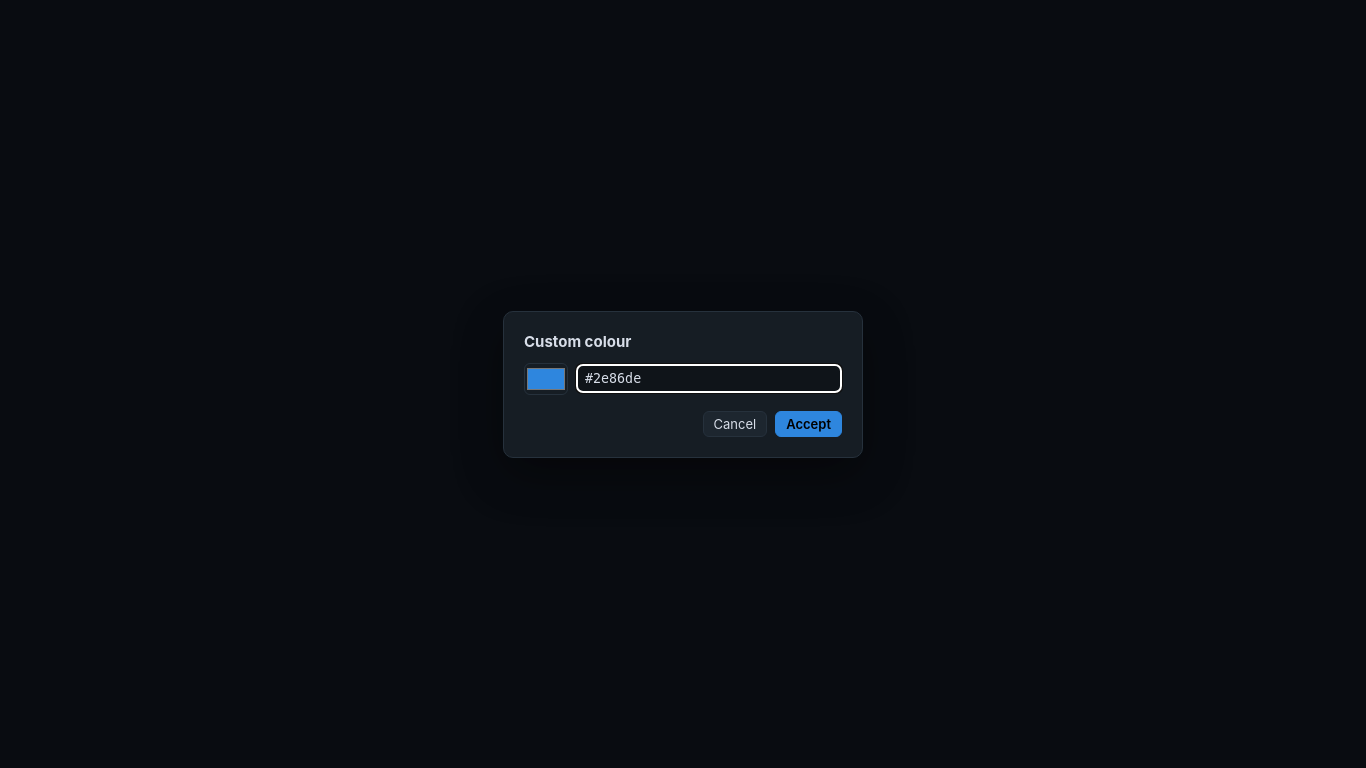
Test: custom colour › refuses a code that is not a colour
Replace the text in the field named "Colour code" with "#12" at (709, 378), box [576, 364, 842, 393]
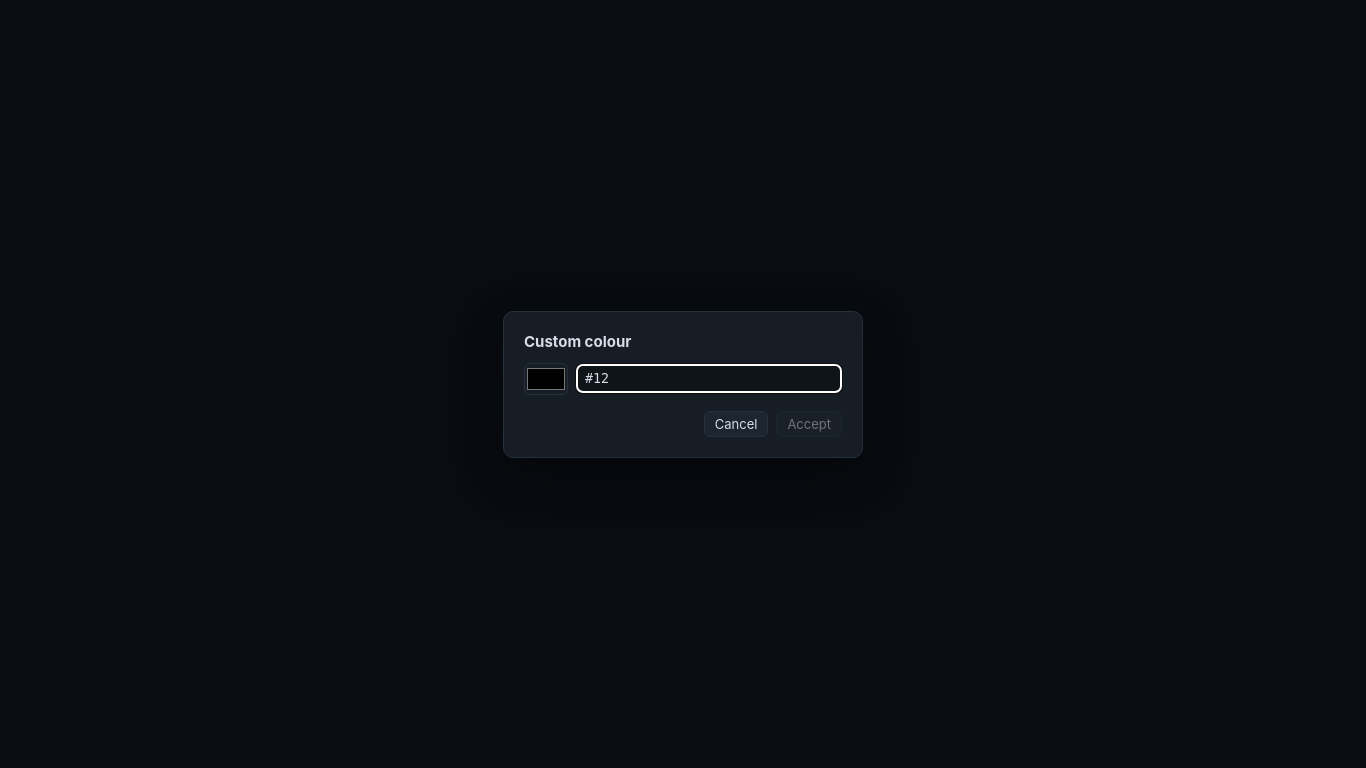
expect the button "Accept" is disabled: met, box [776, 410, 842, 436]
